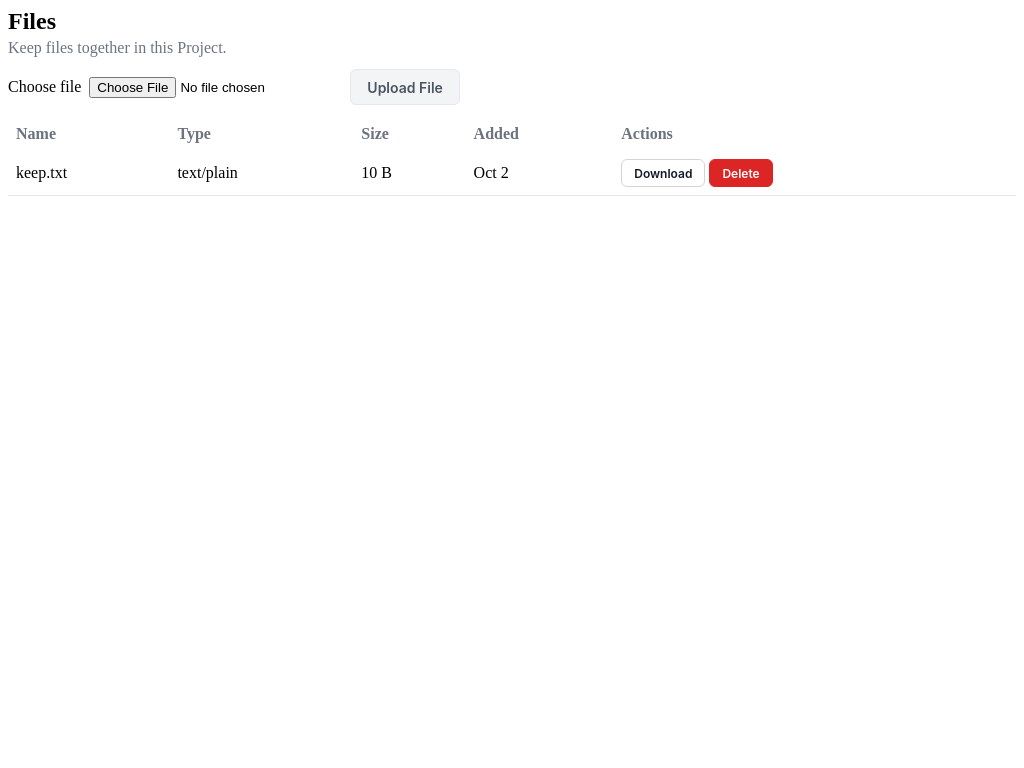
Test: ProjectFilesPanel › keeps the row after delete failure and allows a confirmed retry
The image size is (1024, 768).
Step 1. Click the button with aria-label "Delete keep.txt" → x=741, y=173, box [709, 159, 773, 187]
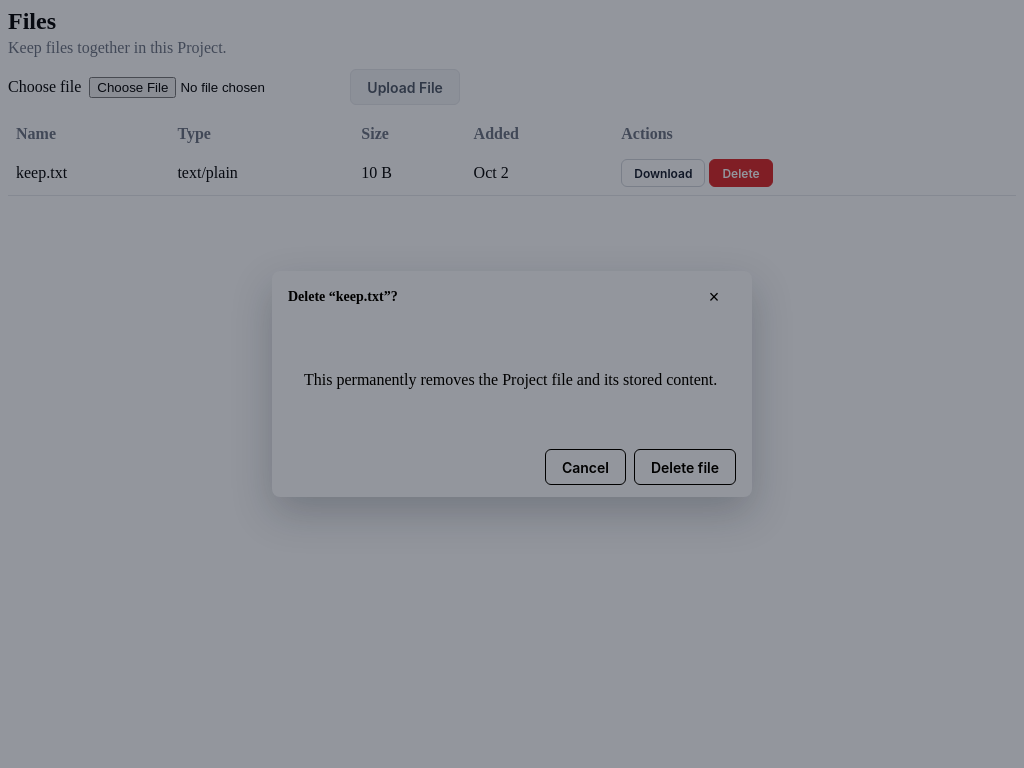
Step 2. Click the button "Delete file" → x=685, y=467, box [634, 449, 736, 485]
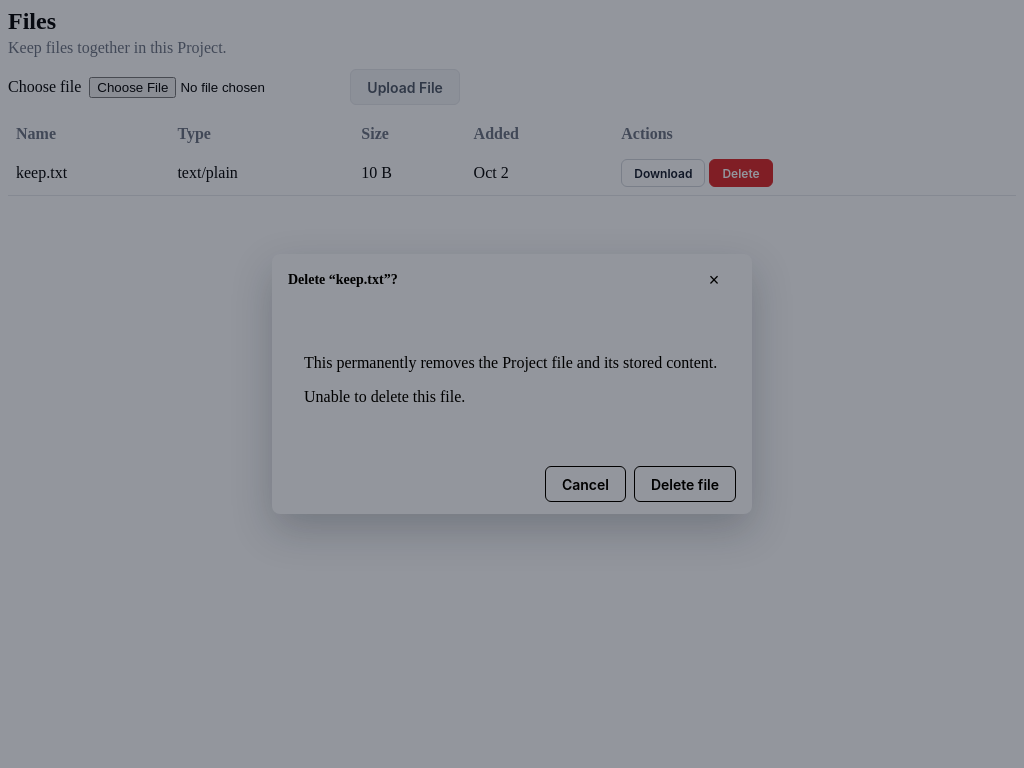
expect the row "keep.txt text/plain 10 B Oct 2 Download Delete" is shown: met, box [8, 151, 1016, 196]
expect the message reads "Unable to delete this file.": met, box [304, 388, 465, 405]
Step 3. Click the button "Delete file" → x=685, y=484, box [634, 466, 736, 502]
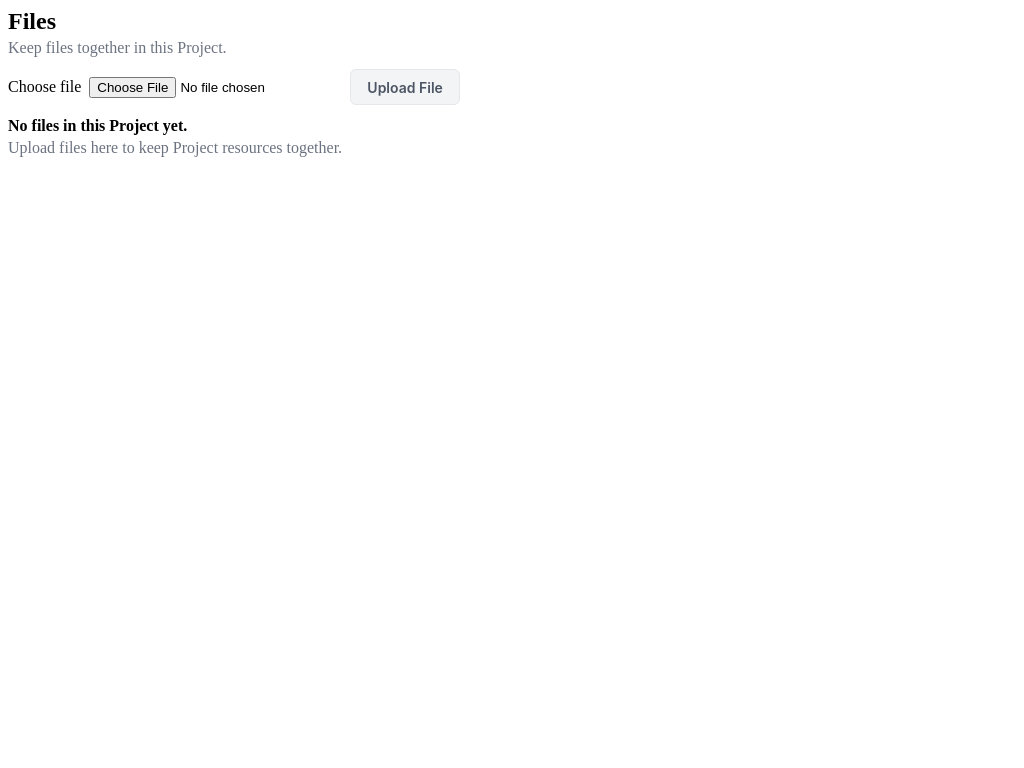
expect the column heading "keep.txt" is gone: met
